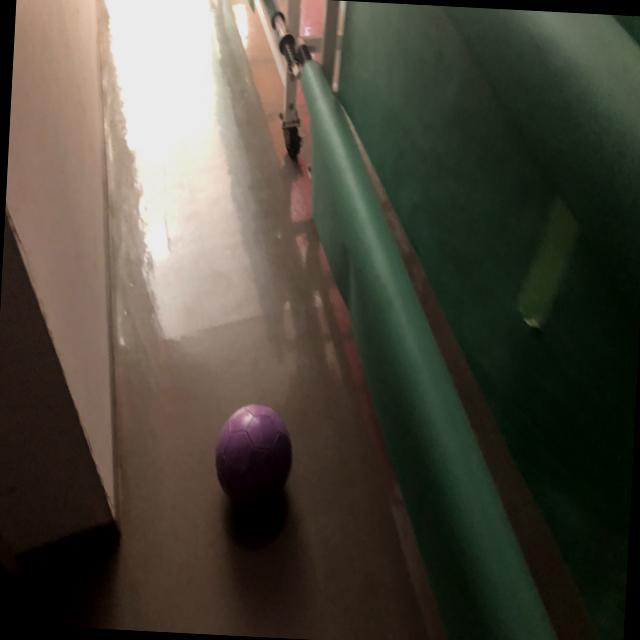purple_ball: (213, 404, 296, 514)
